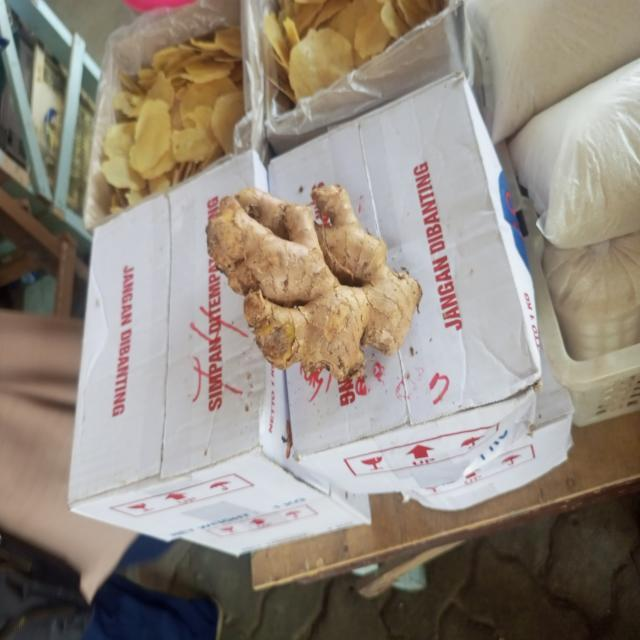ginger: (210, 181, 417, 370)
